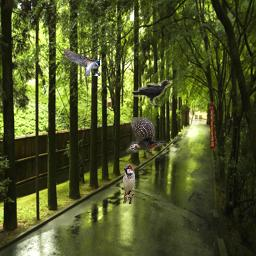Crow: (131, 80, 171, 105)
Sparrow: (123, 164, 135, 204)
Swallow: (63, 49, 100, 76)
Woodpecker: (126, 117, 166, 153)
